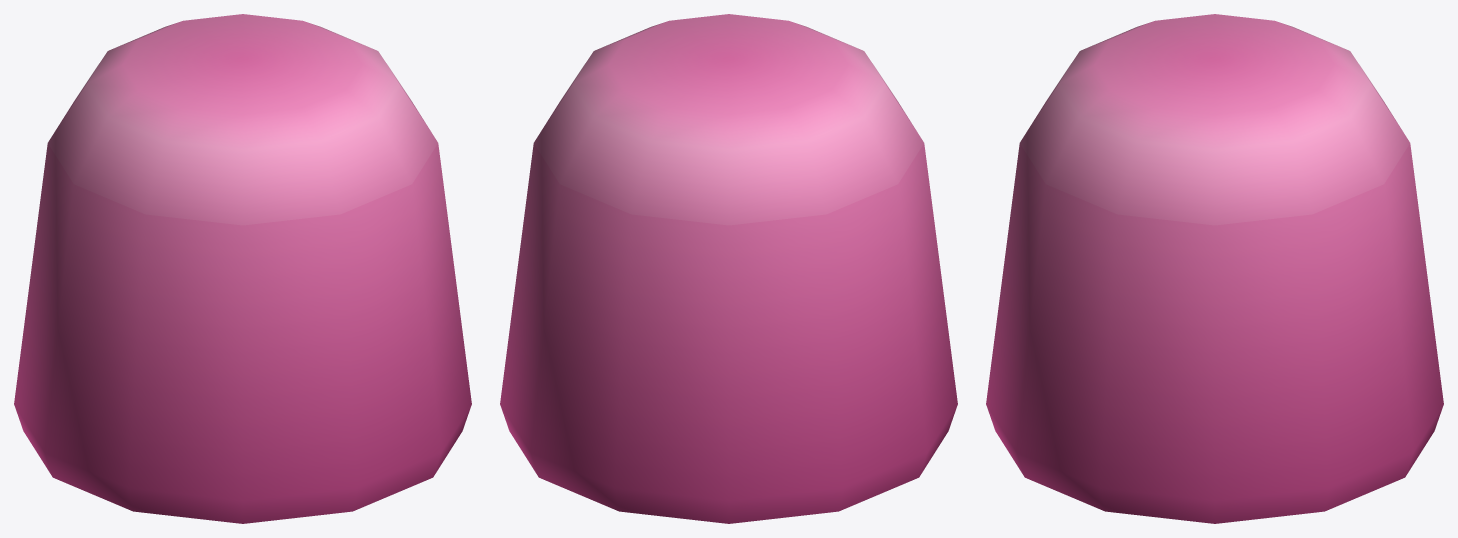
File: candy_B_pink.obj
3 views of the same model, side by side, from view 1: azimuth 30°, elevation 25°; view 2: azimuth 150°, elevation 25°; view 3: azimuth 270°, elevation 25° (orthographic).
Visible parts, largest first — view 1: candy_B_pink; view 2: candy_B_pink; view 3: candy_B_pink.
Boxes of the visible parts, bbox=[...] form: candy_B_pink: bbox=[14, 14, 471, 523]; candy_B_pink: bbox=[500, 14, 957, 523]; candy_B_pink: bbox=[986, 14, 1443, 523].
Bounding box in the file's own units: 0.6776 × 0.6252 × 0.6776.
1 material, 1 textured.
